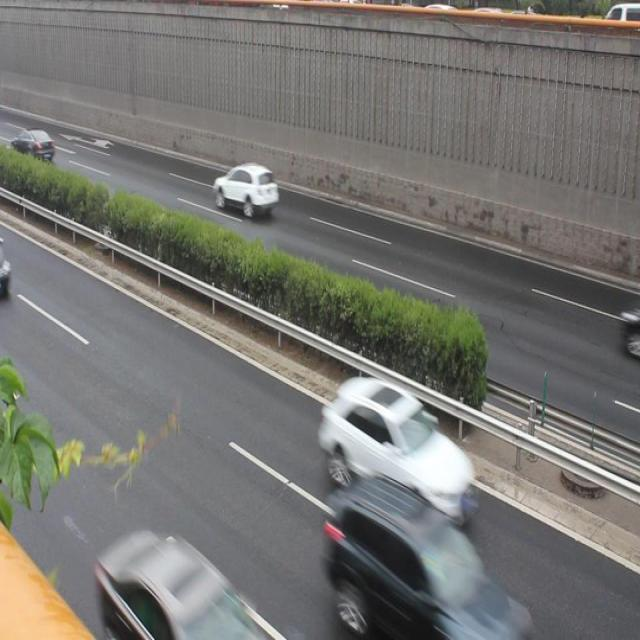car: (320, 474, 518, 640), (315, 375, 472, 517), (97, 526, 270, 640), (212, 159, 279, 221)
